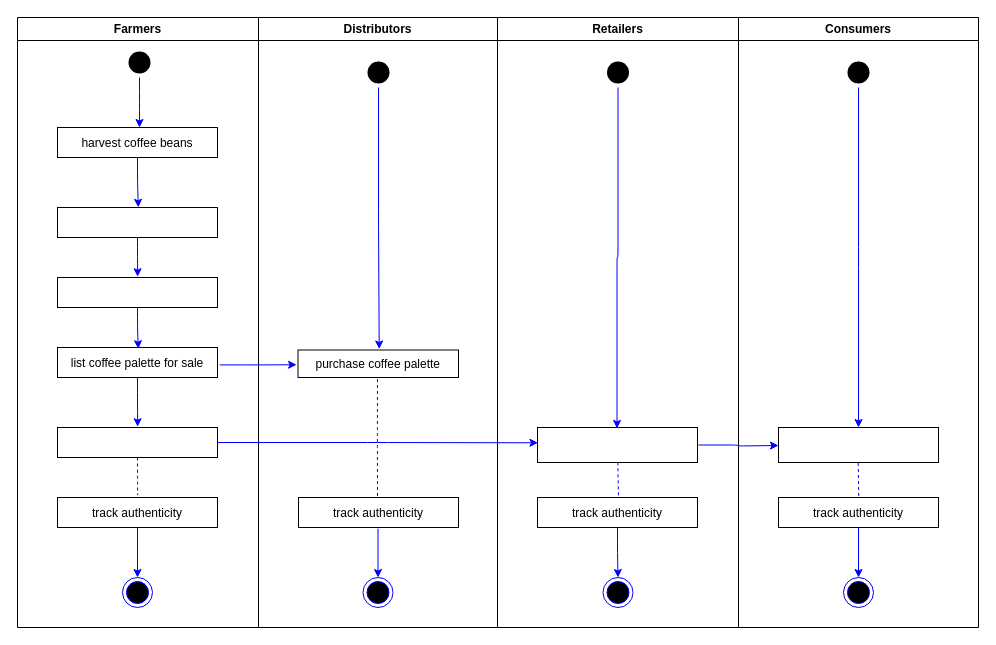
Image size: 996x645. Some labels were removed from this diagram. Each missing label, with the centre of its shape:
"pack coffee palette" goes at point 137,292.
"process coffee beans" goes at point 137,222.
"purchase coffee bags" goes at point 858,444.
"receive coffee palette" goes at point 617,444.
"ship coffee palette" goes at point 137,442.
